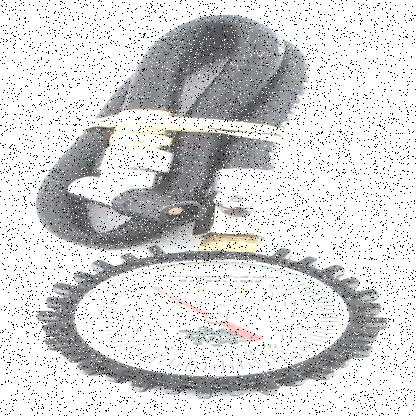needle: (150, 287, 213, 317)
